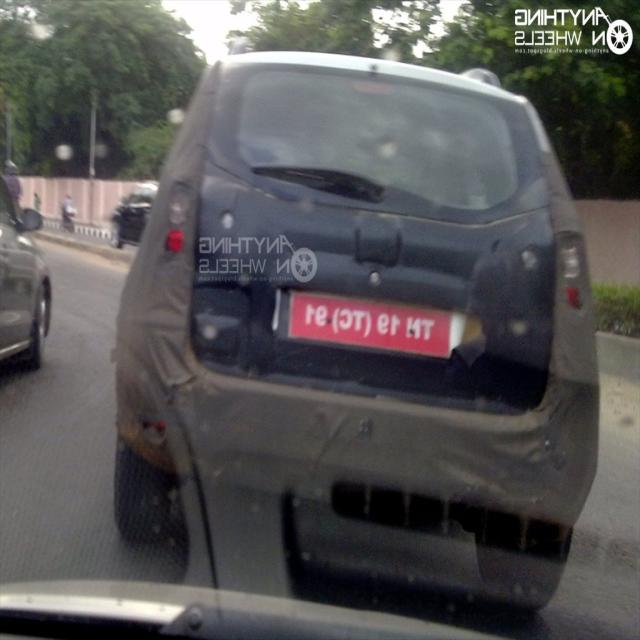number-plate: (260, 299, 450, 356)
